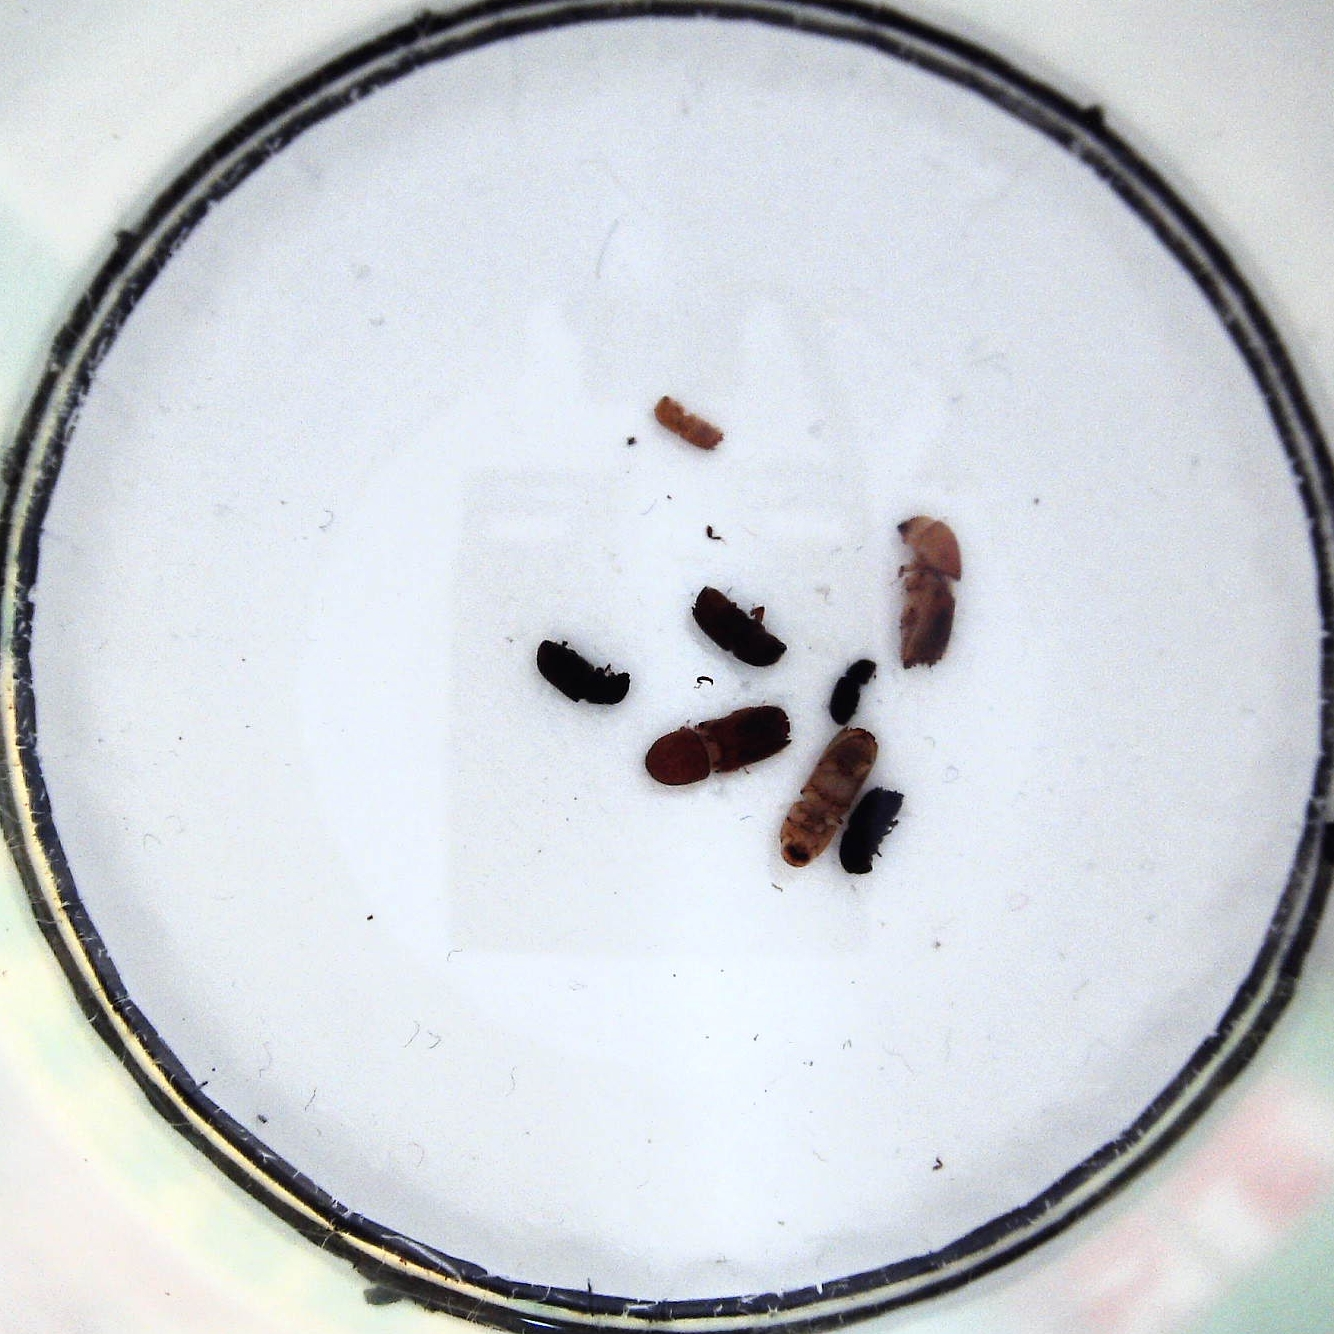Boerner: (781, 727, 880, 866), (643, 705, 795, 785), (892, 512, 963, 671)
Linnaeus: (688, 584, 789, 667), (836, 785, 905, 878)
acuminatus: (654, 393, 726, 454)
armandi: (535, 634, 632, 709)
coleoptera: (826, 656, 878, 727)
